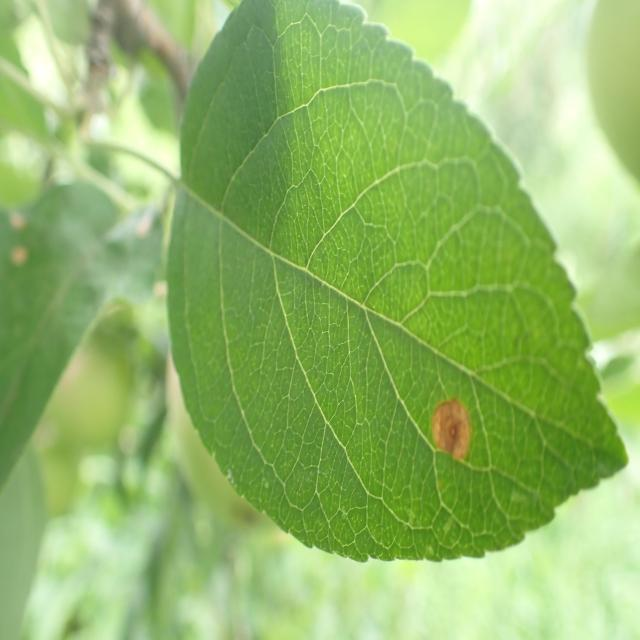Black Rot: (418, 376, 484, 474)
